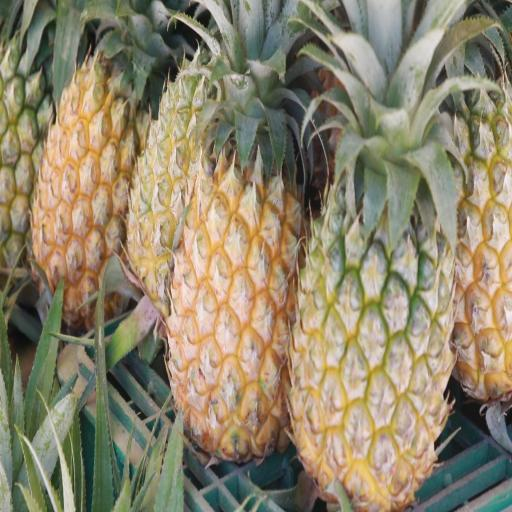------------------------------: (286, 57, 460, 512)
Pineapple - v8 v1: (162, 86, 314, 464), (26, 13, 153, 325), (121, 0, 235, 327)
